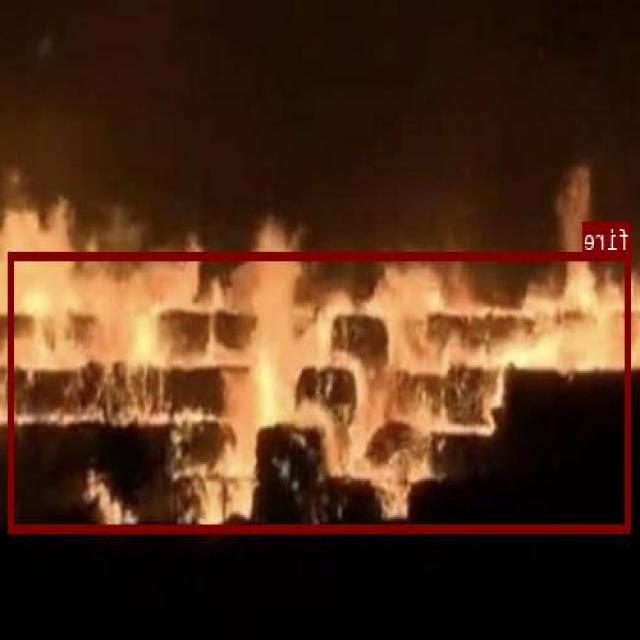fire: (10, 252, 631, 532)
